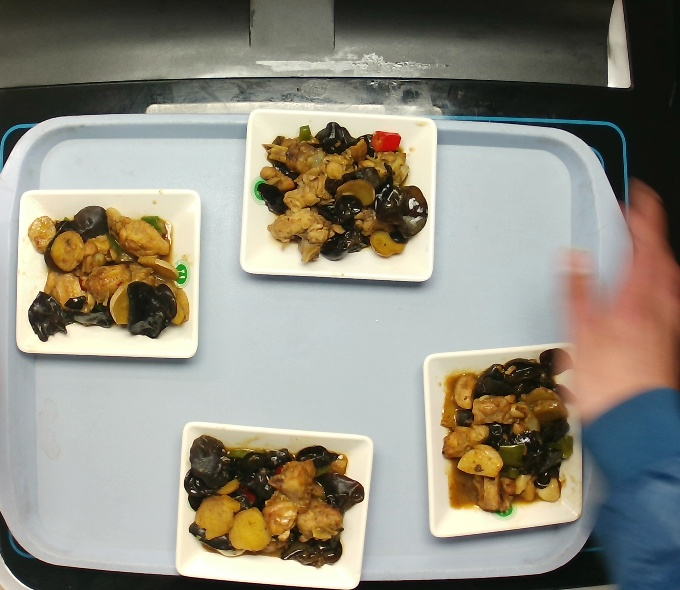wcq-MuErJiKuai: (0, 191, 214, 345), (250, 112, 437, 274), (439, 345, 582, 519), (194, 425, 355, 579)
